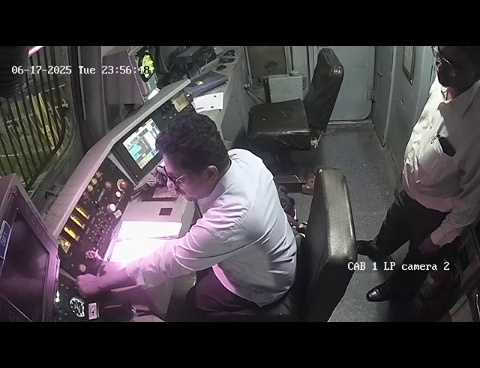horn_active: (67, 254, 138, 320)
